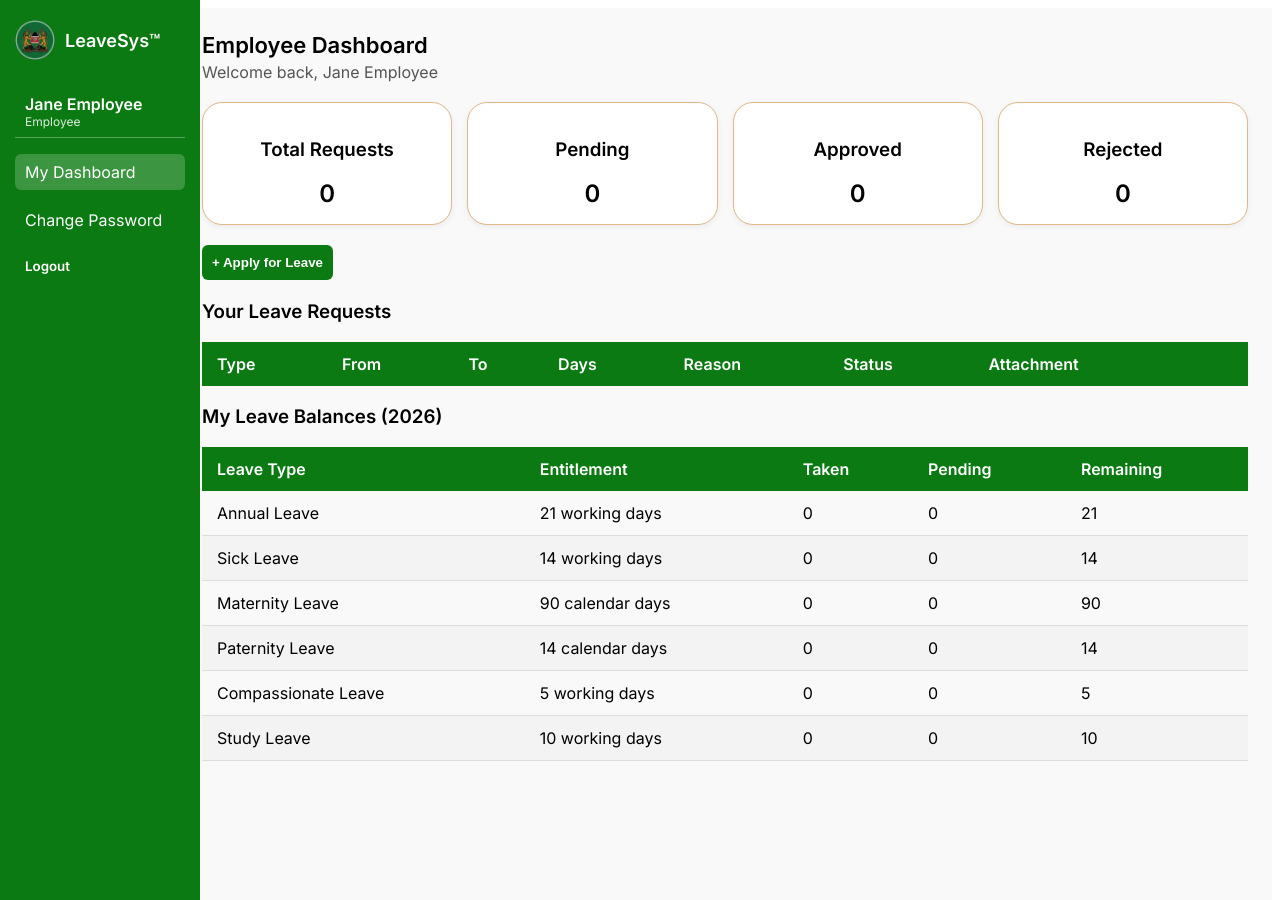
Scenario: if the server refuses a leave request, the form shows why
Click the button "+ Apply for Leave" at x=268, y=263, box top-left (202, 245), bottom-right (333, 280)
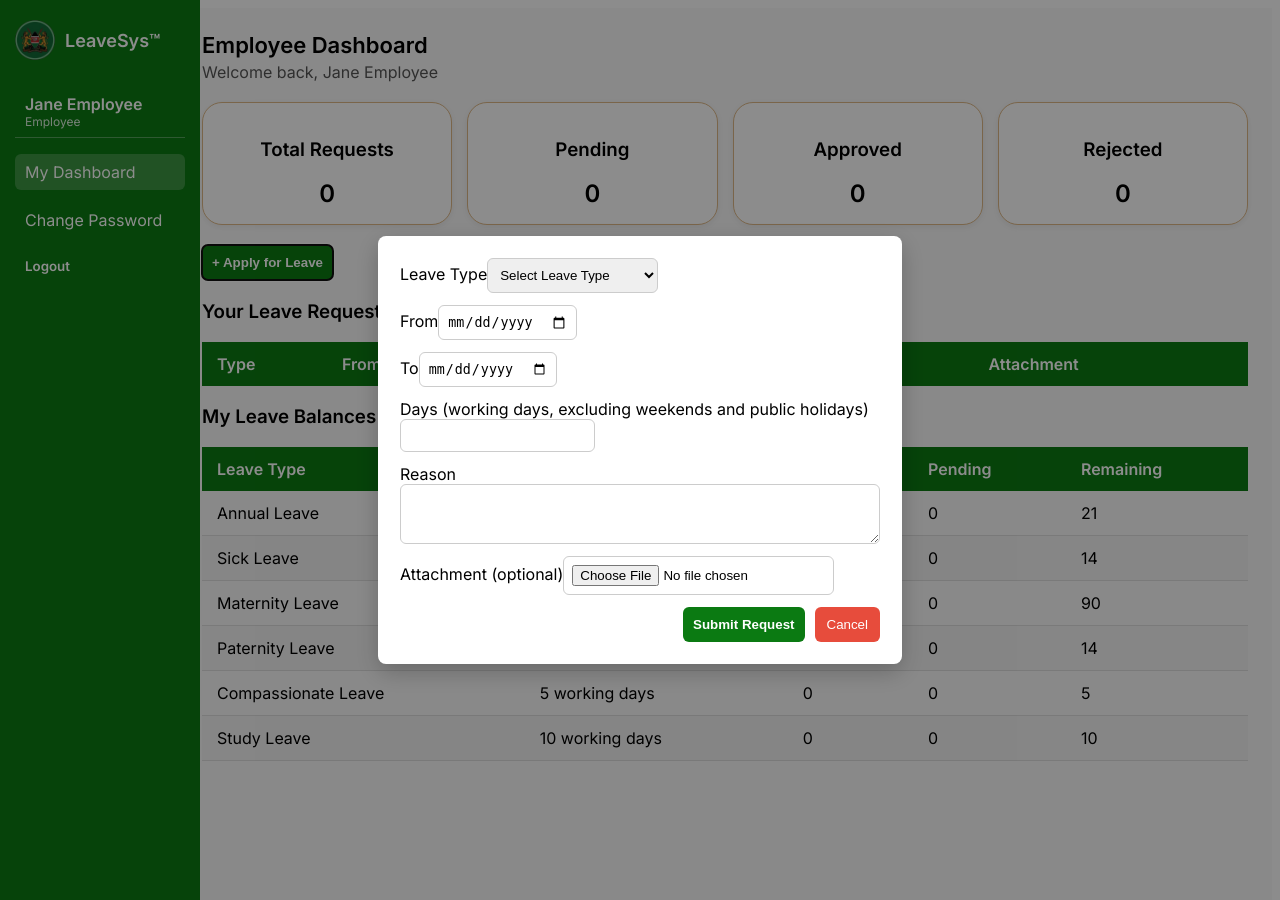
Select "Annual Leave" in the dropdown labelled "Leave Type" at x=573, y=275, box top-left (487, 258), bottom-right (658, 293)
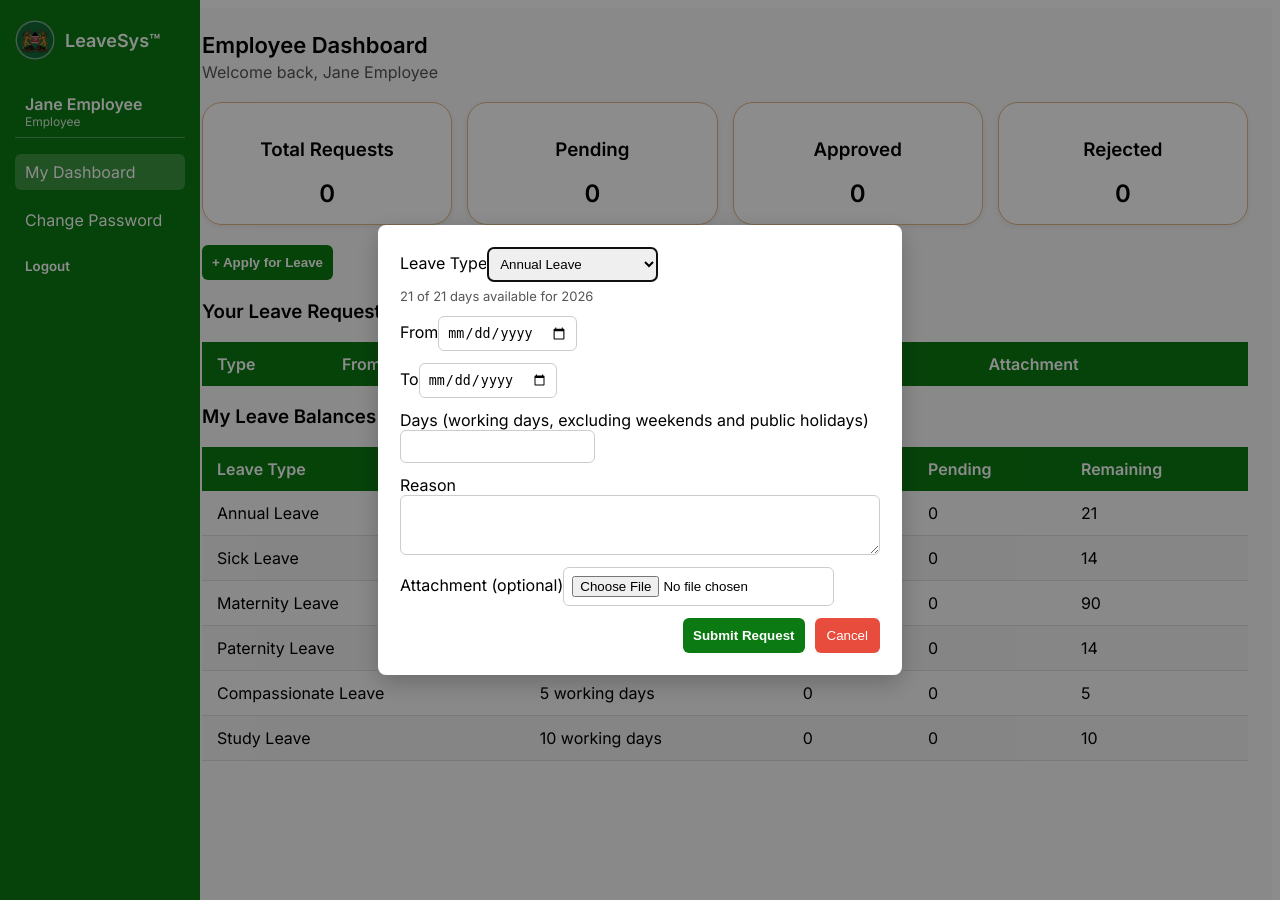
Type "2099-03-02" into the date field labelled "From" at x=507, y=333, box top-left (438, 316), bottom-right (577, 351)
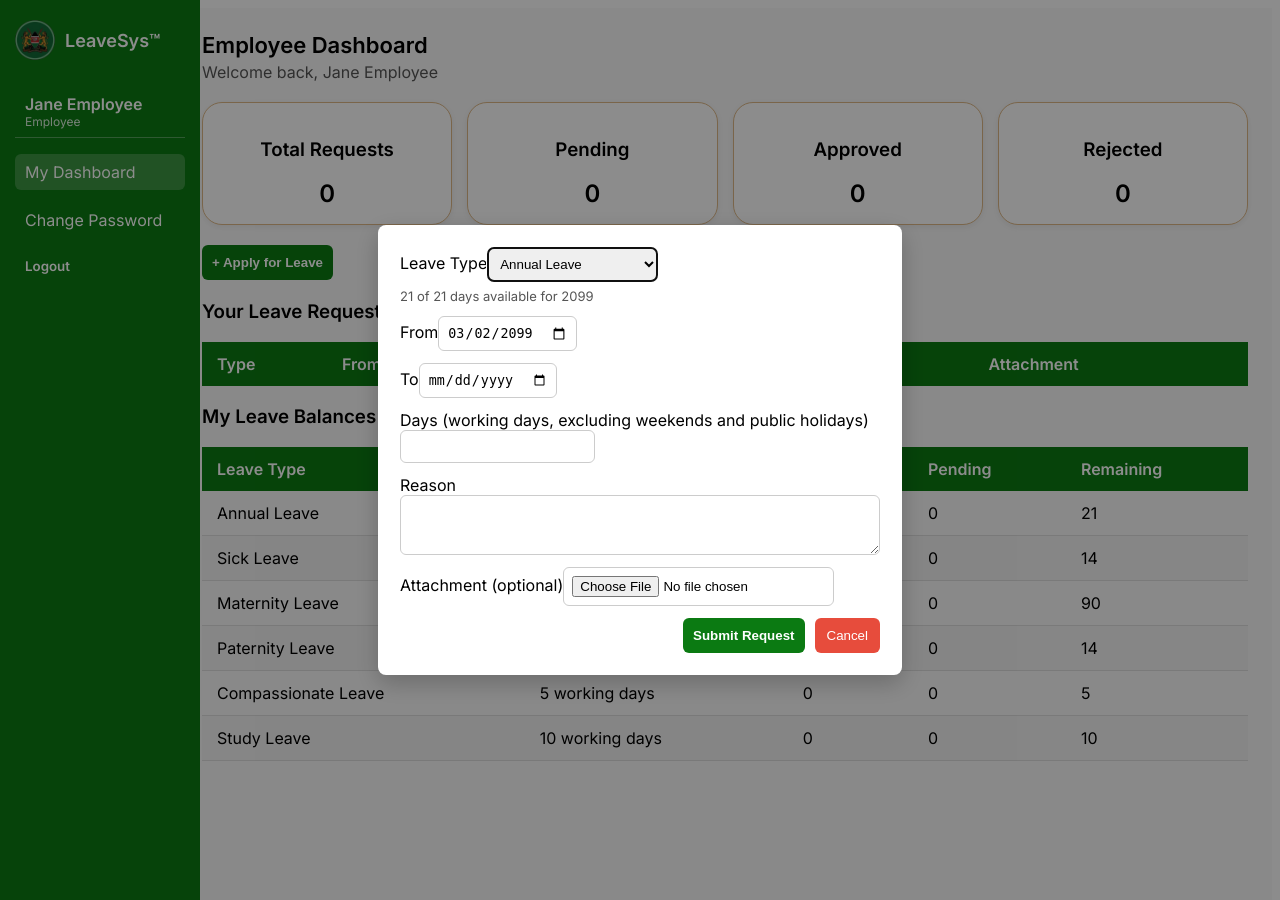
Type "2099-03-03" into the date field labelled "To" at x=488, y=381, box top-left (419, 363), bottom-right (557, 398)
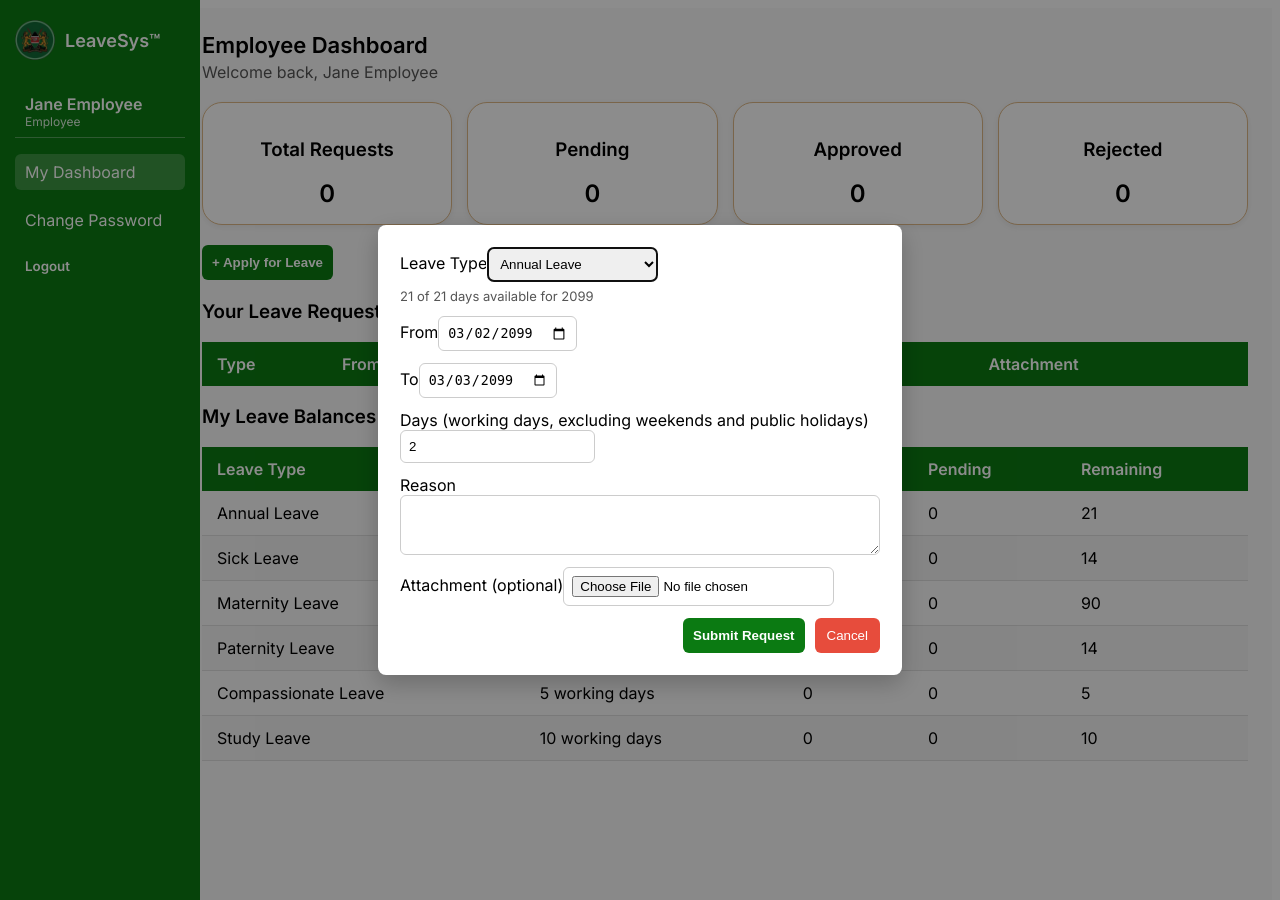
Type "Family visit" into the text box labelled "Reason" at x=640, y=525, box top-left (400, 495), bottom-right (880, 555)
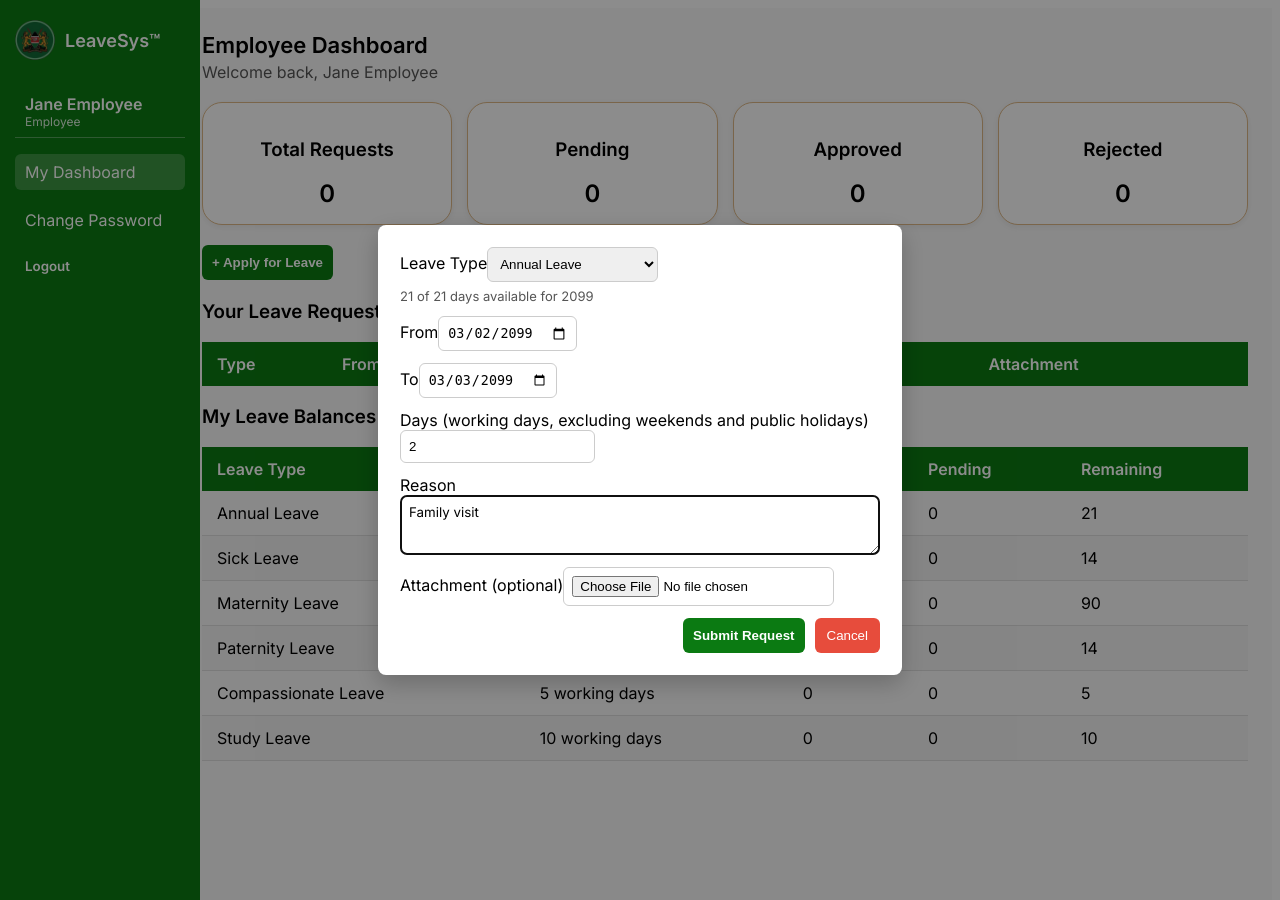
Click the button "Submit Request" at x=744, y=636, box top-left (683, 618), bottom-right (804, 653)
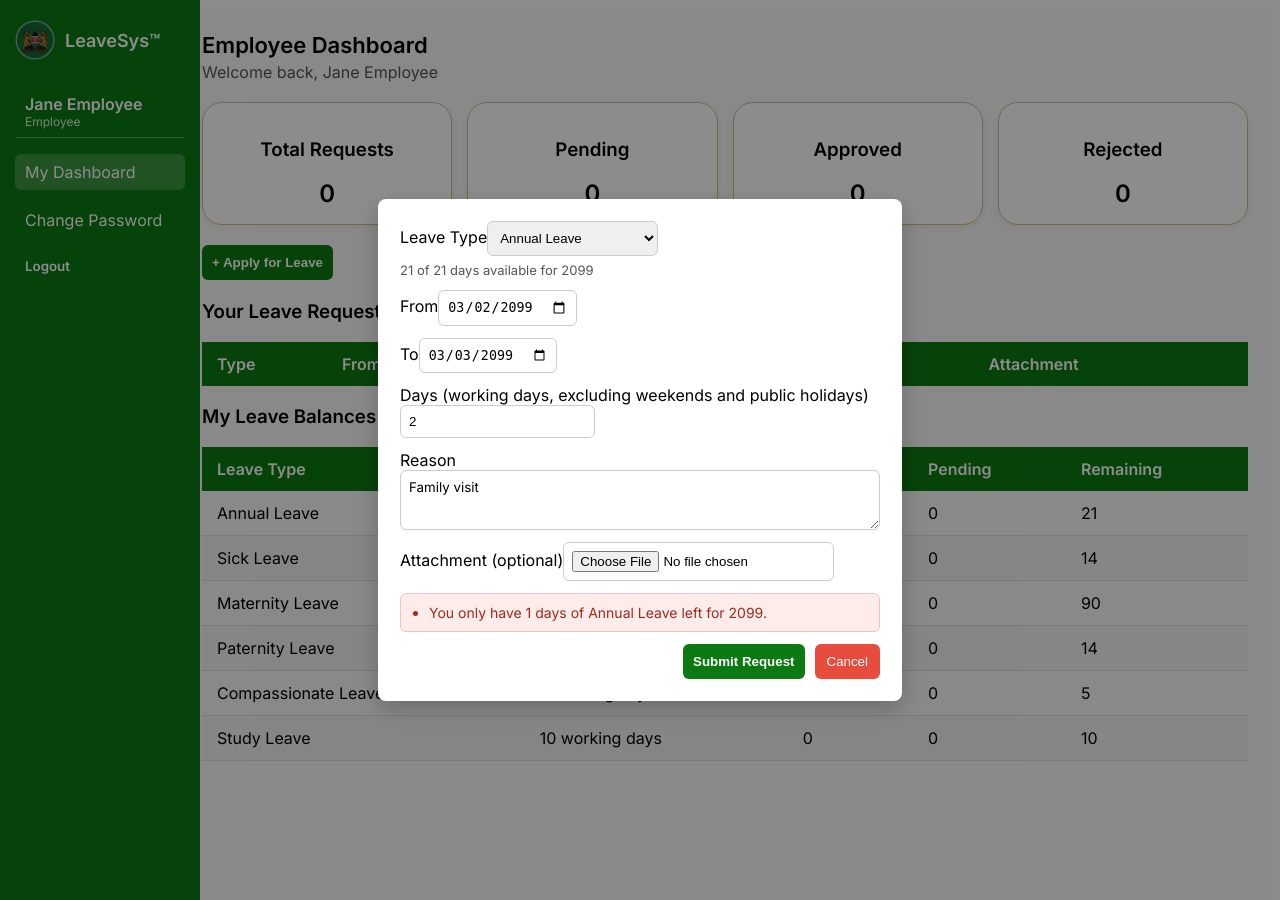
Check: the message shows "You only have 1 days", box top-left (429, 604), bottom-right (767, 621)
